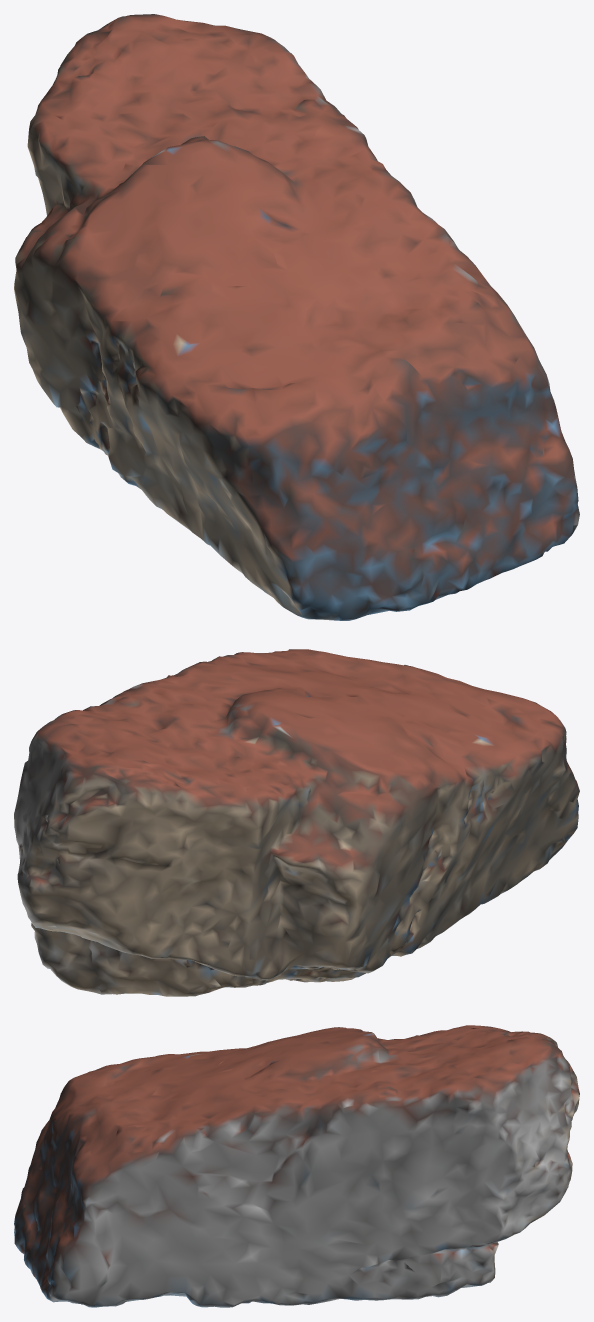
Rendered from rock_07.fbx.
3 views of the same model, one above another, from view 1: azimuth 30°, elevation 25°; view 2: azimuth 150°, elevation 25°; view 3: azimuth 270°, elevation 25° (orthographic). The views are drawn at different scales.
Parts seen in each view (by area): view 1: rock_07; view 2: rock_07; view 3: rock_07.
Boxes of the visible parts, x1,y1,x2,y2 form: rock_07: (14, 14, 579, 620); rock_07: (14, 649, 579, 996); rock_07: (14, 1025, 579, 1307).
Size of the model in its own units: 0.1689 by 0.1437 by 0.3203.
